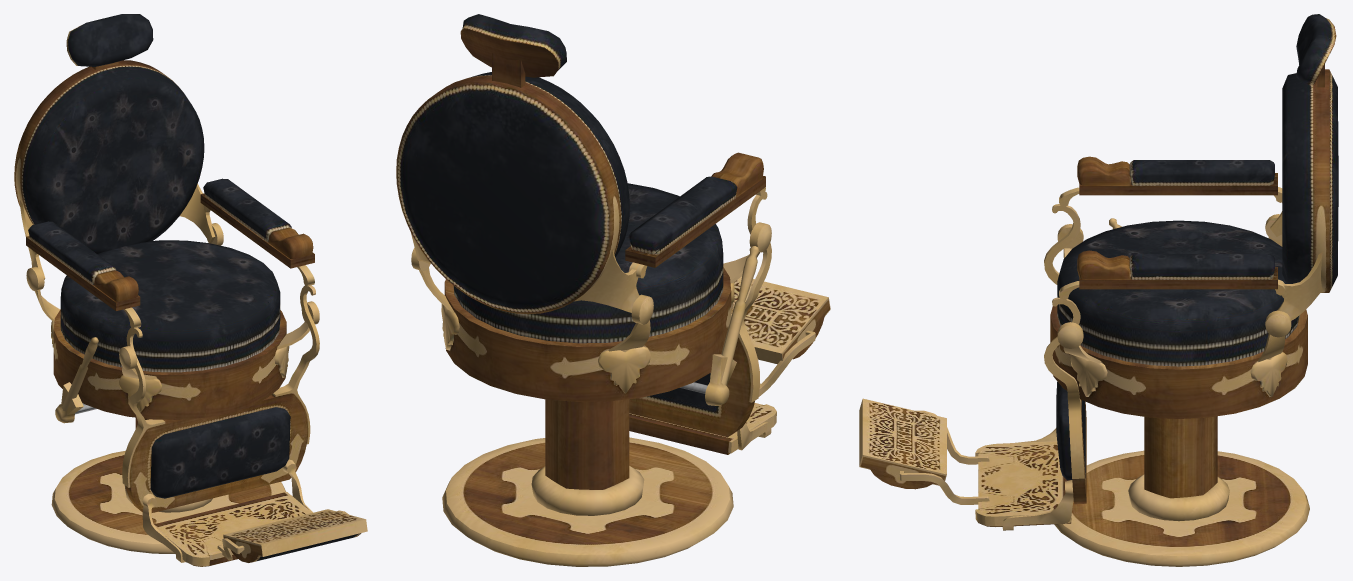
Rendered from barber_shop_chair_01.glb.
The picture shows the model from 3 angles, left to right: view 1: azimuth 30°, elevation 25°; view 2: azimuth 150°, elevation 25°; view 3: azimuth 270°, elevation 25°; orthographic projection. The views are drawn at different scales.
Visible parts, largest first — view 1: BarberShopChair_01; view 2: BarberShopChair_01; view 3: BarberShopChair_01.
Part boxes in pixels (<box>): BarberShopChair_01: <box>14,14,367,566</box>; BarberShopChair_01: <box>396,14,830,566</box>; BarberShopChair_01: <box>859,14,1338,566</box>.
Size of the model in its own units: 0.7565 by 1.49 by 1.33.
Materials: 1 (1 with a texture image).
